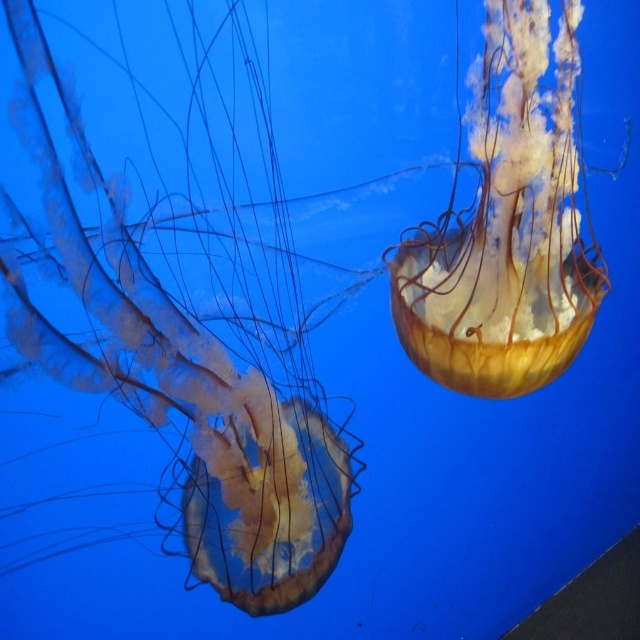Jellyfish: (0, 0, 366, 616), (384, 19, 618, 427)
